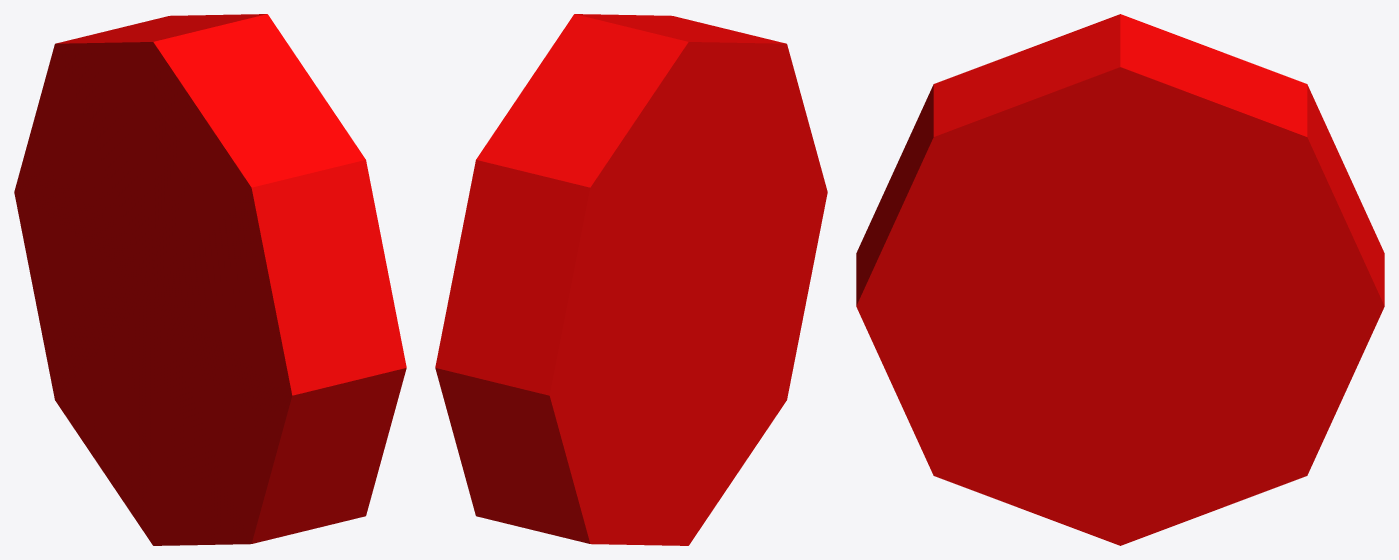
File: fridge_magnet_01.fbx
3 views of the same model, side by side, from view 1: azimuth 30°, elevation 25°; view 2: azimuth 150°, elevation 25°; view 3: azimuth 270°, elevation 25° (orthographic). The views are drawn at different scales.
Visible parts, largest first — view 1: Circle; view 2: Circle; view 3: Circle.
Boxes of the visible parts, left/top/right/bottom form: Circle: left=14, top=14, right=406, bottom=545; Circle: left=435, top=14, right=827, bottom=545; Circle: left=856, top=14, right=1384, bottom=545.
Size of the model in its own units: 0.01 by 0.0421 by 0.0421.
